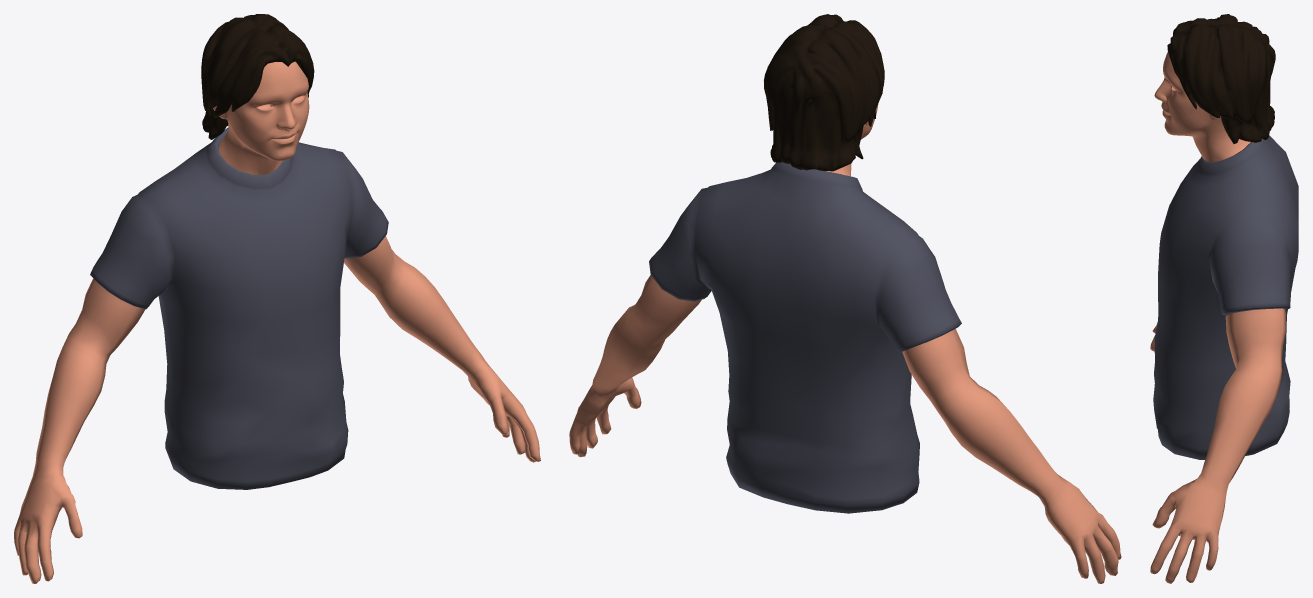
Rendered from man1_upperBody.glb.
3 renders of one model, left to right at view 1: azimuth 30°, elevation 25°; view 2: azimuth 150°, elevation 25°; view 3: azimuth 270°, elevation 25°, orthographic. The views are drawn at different scales.
Visible parts, largest first — view 1: Wolf3D_Outfit_Top.001, Wolf3D_Body.007, Wolf3D_Hair, Wolf3D_Body.009, Wolf3D_Head.001, Wolf3D_Body.008, Wolf3D_Body.010; view 2: Wolf3D_Outfit_Top.001, Wolf3D_Hair, Wolf3D_Body.007, Wolf3D_Body.009, Wolf3D_Body.008, Wolf3D_Body.010; view 3: Wolf3D_Outfit_Top.001, Wolf3D_Hair, Wolf3D_Body.009, Wolf3D_Body.010, Wolf3D_Head.001.
Part boxes in pixels (left/top/right/bottom): Wolf3D_Outfit_Top.001: left=90, top=128, right=388, bottom=489; Wolf3D_Body.007: left=34, top=278, right=145, bottom=474; Wolf3D_Hair: left=201, top=14, right=314, bottom=139; Wolf3D_Body.009: left=344, top=236, right=485, bottom=376; Wolf3D_Head.001: left=213, top=61, right=309, bottom=174; Wolf3D_Body.008: left=14, top=468, right=82, bottom=583; Wolf3D_Body.010: left=468, top=361, right=540, bottom=462; Wolf3D_Outfit_Top.001: left=649, top=162, right=961, bottom=513; Wolf3D_Hair: left=764, top=14, right=884, bottom=171; Wolf3D_Body.007: left=902, top=329, right=1063, bottom=506; Wolf3D_Body.009: left=590, top=275, right=701, bottom=397; Wolf3D_Body.008: left=1044, top=479, right=1121, bottom=583; Wolf3D_Body.010: left=569, top=377, right=641, bottom=457; Wolf3D_Outfit_Top.001: left=1153, top=135, right=1298, bottom=459; Wolf3D_Hair: left=1167, top=14, right=1275, bottom=143; Wolf3D_Body.009: left=1195, top=308, right=1286, bottom=491; Wolf3D_Body.010: left=1150, top=479, right=1226, bottom=583; Wolf3D_Head.001: left=1154, top=52, right=1250, bottom=162.
Size of the model in its own units: 10.29 by 9.33 by 2.79.
Materials: 3 (1 with a texture image).
